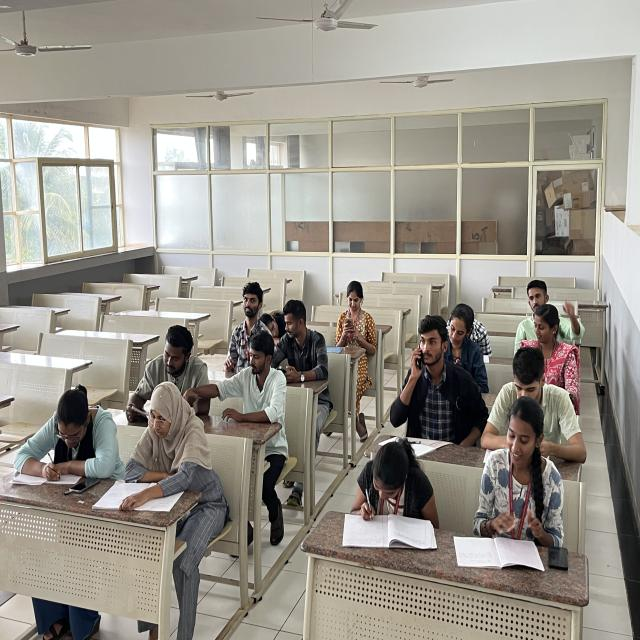Reading: (454, 402, 545, 559), (113, 389, 212, 502)
Sleeping: (258, 299, 293, 342)
Using Phone: (391, 316, 475, 433), (272, 298, 327, 380), (335, 281, 377, 349)
Writing: (342, 444, 433, 548), (12, 380, 99, 483)
